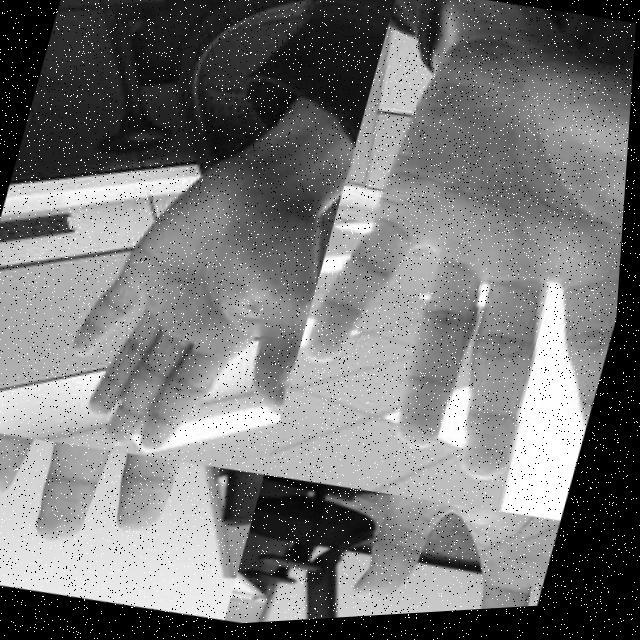no-gloves: (272, 4, 638, 524), (50, 150, 348, 487), (0, 408, 274, 587), (343, 488, 570, 622)
